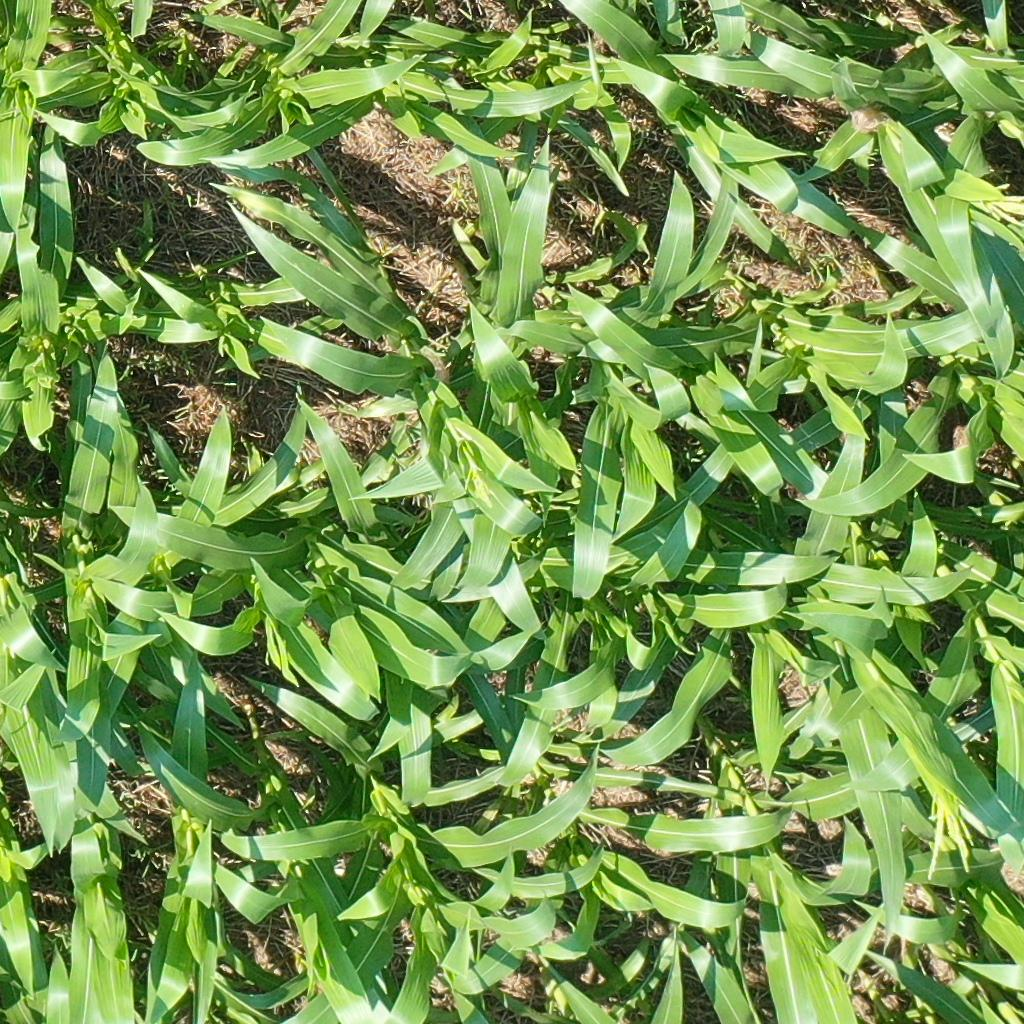Tassel: (926, 780, 974, 879), (973, 181, 1024, 226), (461, 456, 499, 506)
